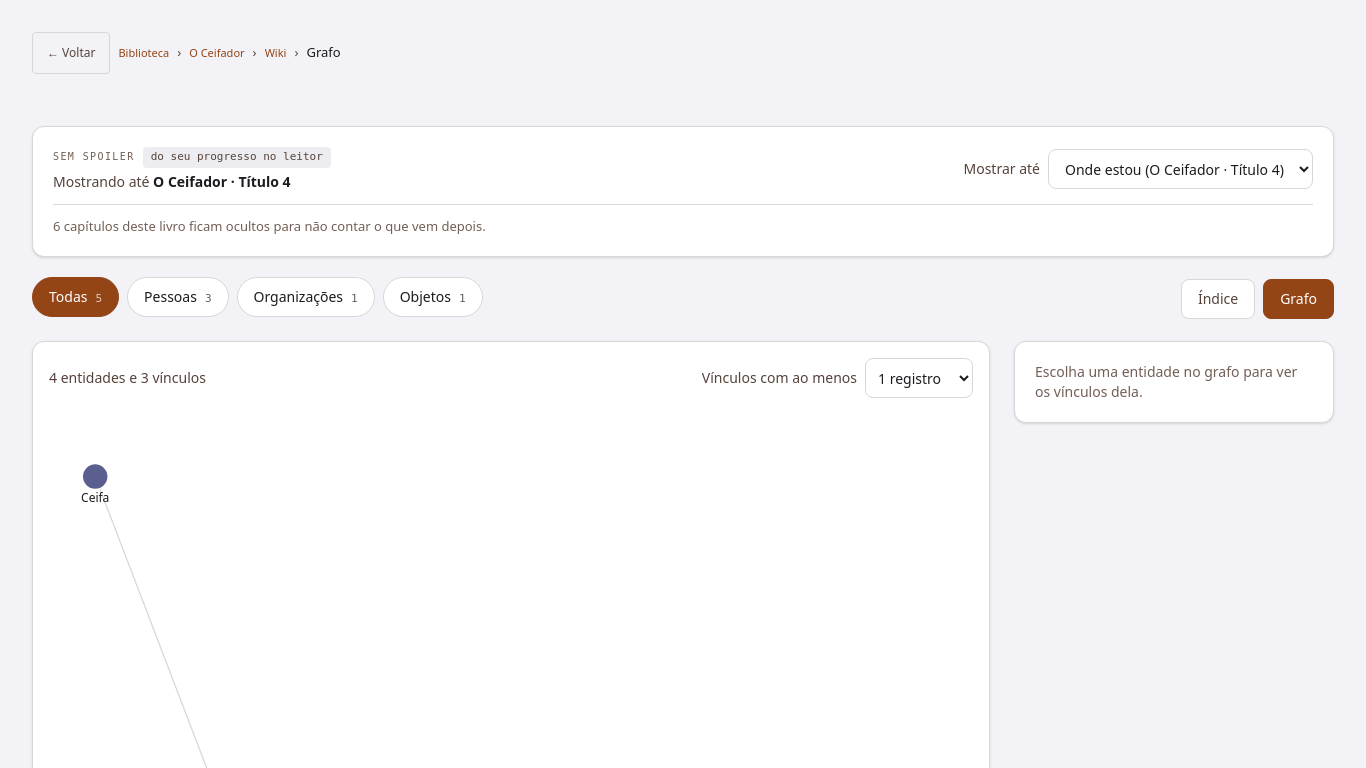
Test: WikiPage: the graph › leaves out the weak links, and the nodes left alone, when asked
The image size is (1366, 768).
Select "2 registros" in the dropdown labelled "Vínculos com ao menos" at (919, 378), box [865, 358, 973, 398]
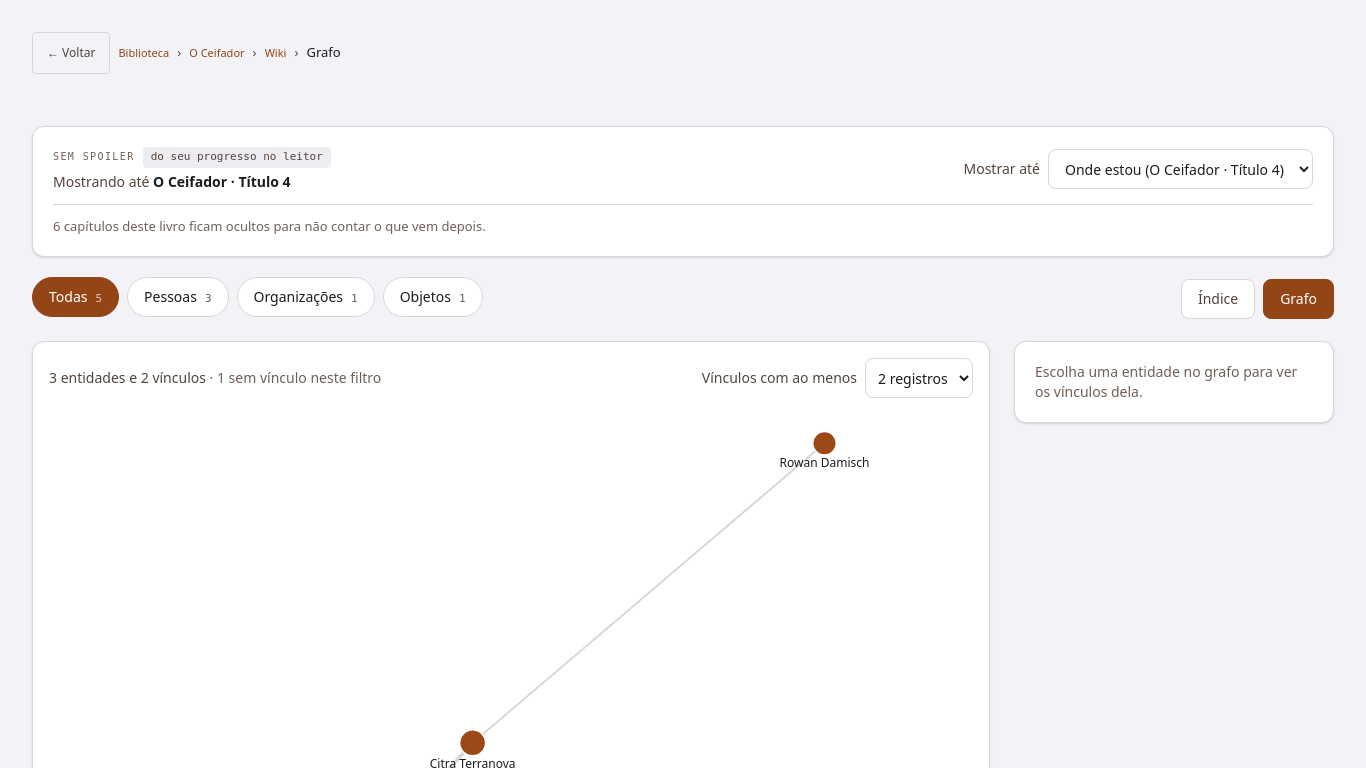
Check: the text "1 sem vínculo neste filtro" is shown, box [206, 368, 381, 387]
